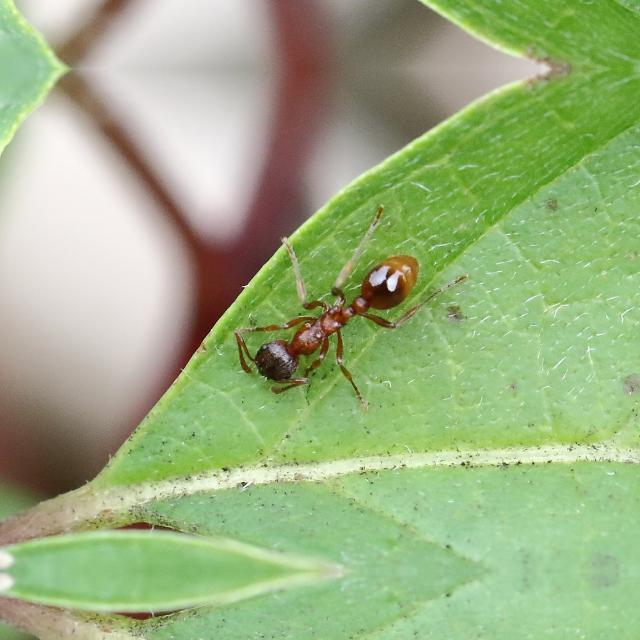Myrmica: (222, 238, 460, 410)
